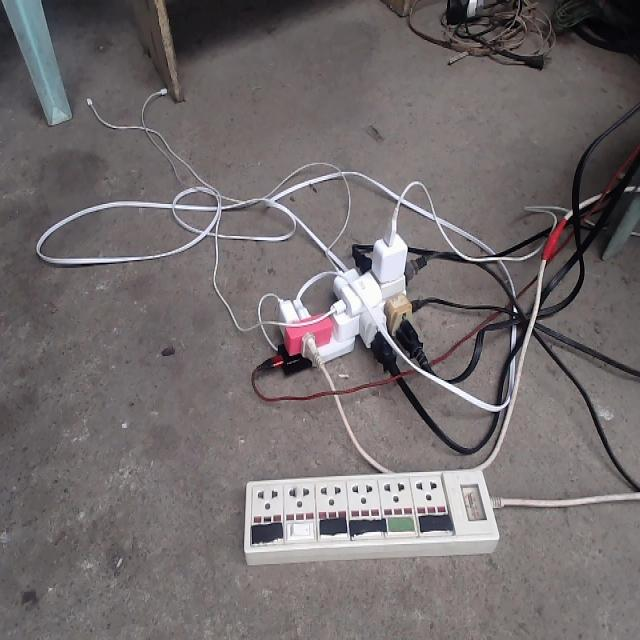-: (252, 203, 430, 376)
